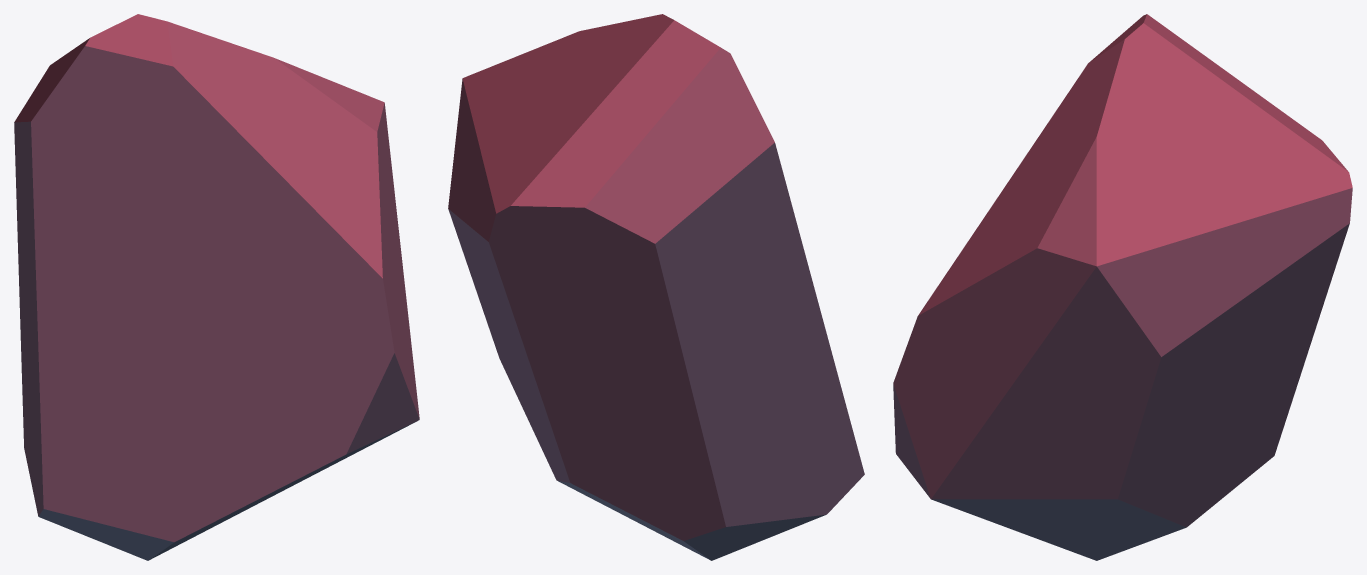
Rendered from geology-crystals-gemstone_v7.glb.
The picture shows the model from 3 angles, left to right: view 1: azimuth 30°, elevation 25°; view 2: azimuth 150°, elevation 25°; view 3: azimuth 270°, elevation 25°; orthographic projection. The views are drawn at different scales.
Parts seen in each view (by area): view 1: gemstone_v7; view 2: gemstone_v7; view 3: gemstone_v7.
Part boxes in pixels (x1=…): gemstone_v7: x1=14, y1=14, x2=419, y2=560; gemstone_v7: x1=448, y1=14, x2=864, y2=560; gemstone_v7: x1=893, y1=14, x2=1352, y2=560.
Size of the model in its own units: 14.46 by 20.15 by 15.42.
